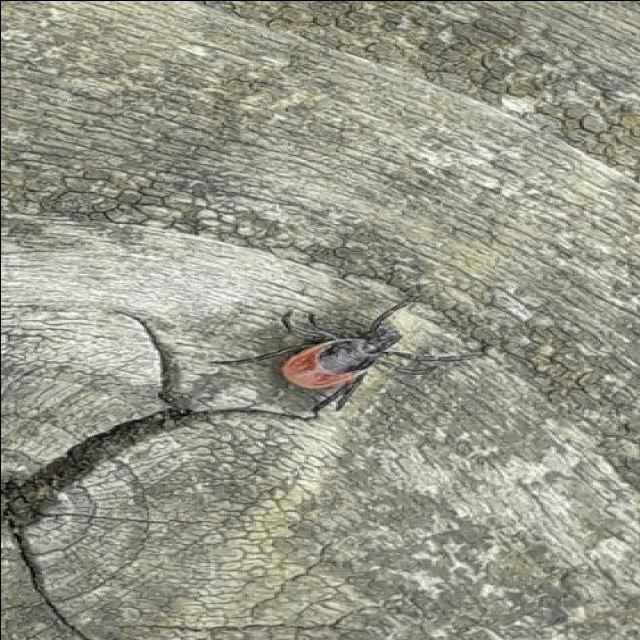Ixodes Ricinus-F: (207, 301, 483, 412)
